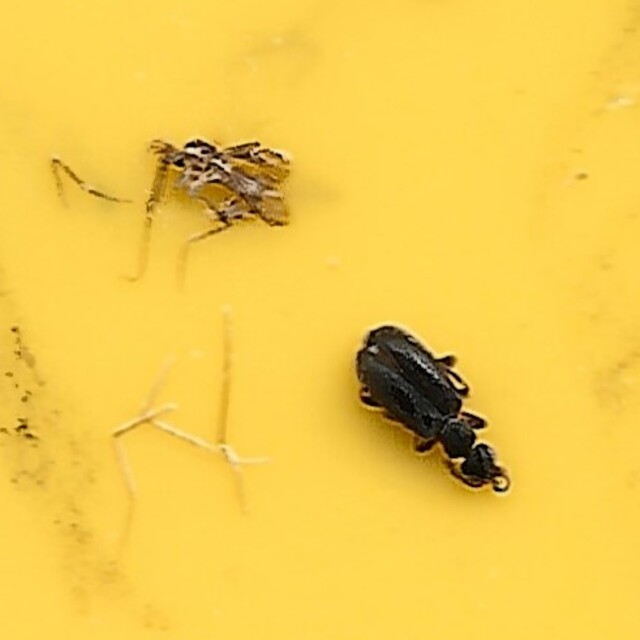Coleoptera: (353, 322, 510, 502)
Nematocera: (130, 138, 292, 275)
